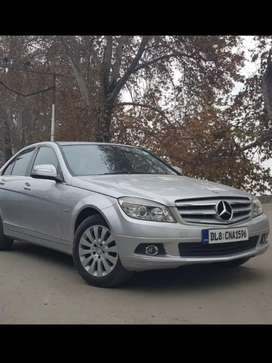DL8CNA1596: (202, 226, 248, 245)
